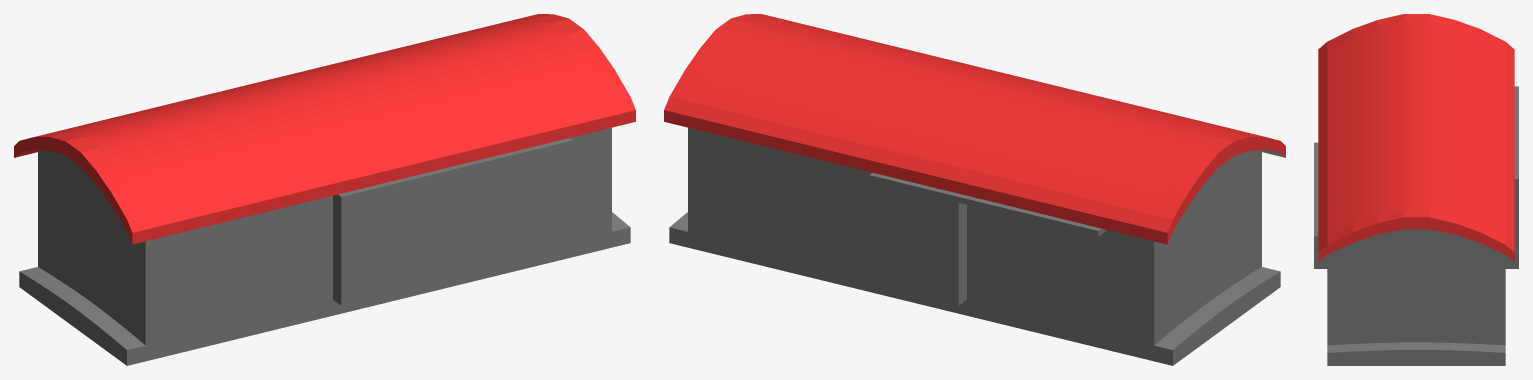
File: Waggon.fbx
The picture shows the model from 3 angles, left to right: view 1: azimuth 30°, elevation 25°; view 2: azimuth 150°, elevation 25°; view 3: azimuth 270°, elevation 25°; orthographic projection. The views are drawn at different scales.
Parts seen in each view (by area): view 1: Box001; view 2: Box001; view 3: Box001.
Boxes of the visible parts, x1,y1,x2,y2 form: Box001: (14, 14, 635, 365); Box001: (664, 14, 1285, 365); Box001: (1314, 14, 1518, 365).
Size of the model in its own units: 540 by 184 by 230.
